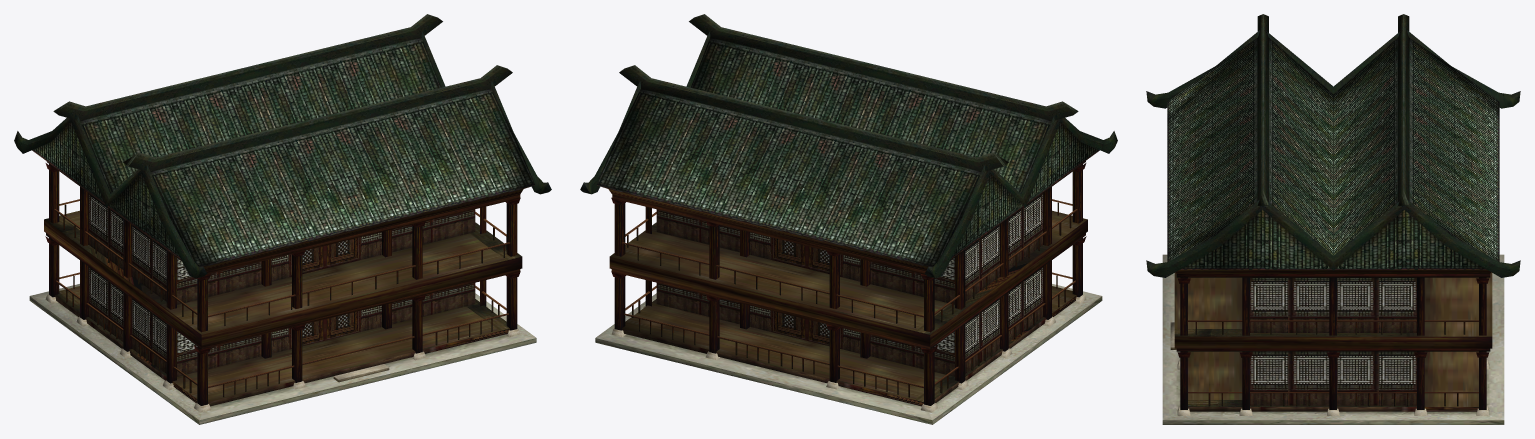
File: c1-033-guesthouse-01_lod_01.glb
3 views of the same model, side by side, from view 1: azimuth 30°, elevation 25°; view 2: azimuth 150°, elevation 25°; view 3: azimuth 270°, elevation 25° (orthographic).
Visible parts, largest first — view 1: c1-033-guesthouse-01, c1-033-guesthouse-02; view 2: c1-033-guesthouse-01, c1-033-guesthouse-02; view 3: c1-033-guesthouse-01, c1-033-guesthouse-02.
Boxes of the visible parts, x1,y1,x2,y2 form: c1-033-guesthouse-01: (14,14,551,412); c1-033-guesthouse-02: (29,164,536,424); c1-033-guesthouse-01: (580,14,1117,412); c1-033-guesthouse-02: (595,164,1102,424); c1-033-guesthouse-01: (1146,14,1520,415); c1-033-guesthouse-02: (1162,254,1504,424).
Size of the model in its own units: 21.33 by 12.64 by 17.86.
2 materials, 2 textured.
